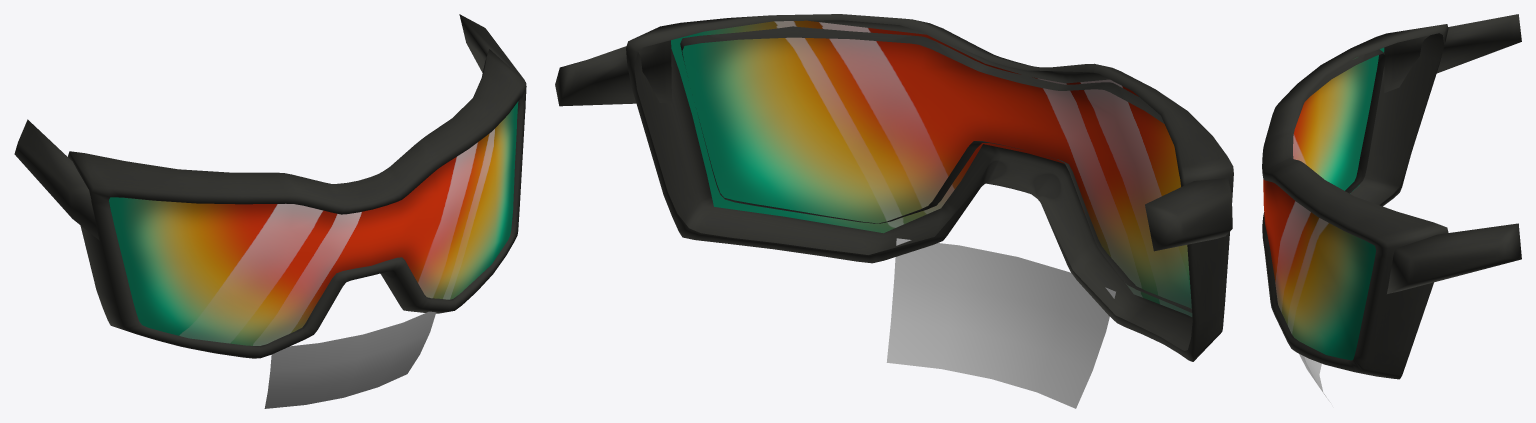
The model's file is Wicked Face.fbx.
3 views of the same model, side by side, from view 1: azimuth 30°, elevation 25°; view 2: azimuth 150°, elevation 25°; view 3: azimuth 270°, elevation 25° (orthographic). The views are drawn at different scales.
Visible parts, largest first — view 1: Wicked Face; view 2: Wicked Face; view 3: Wicked Face.
Boxes of the visible parts, x1,y1,x2,y2 form: Wicked Face: (14,14,526,408); Wicked Face: (555,14,1233,408); Wicked Face: (1262,14,1521,402).
Size of the model in its own units: 60.74 by 31.7 by 29.14.
